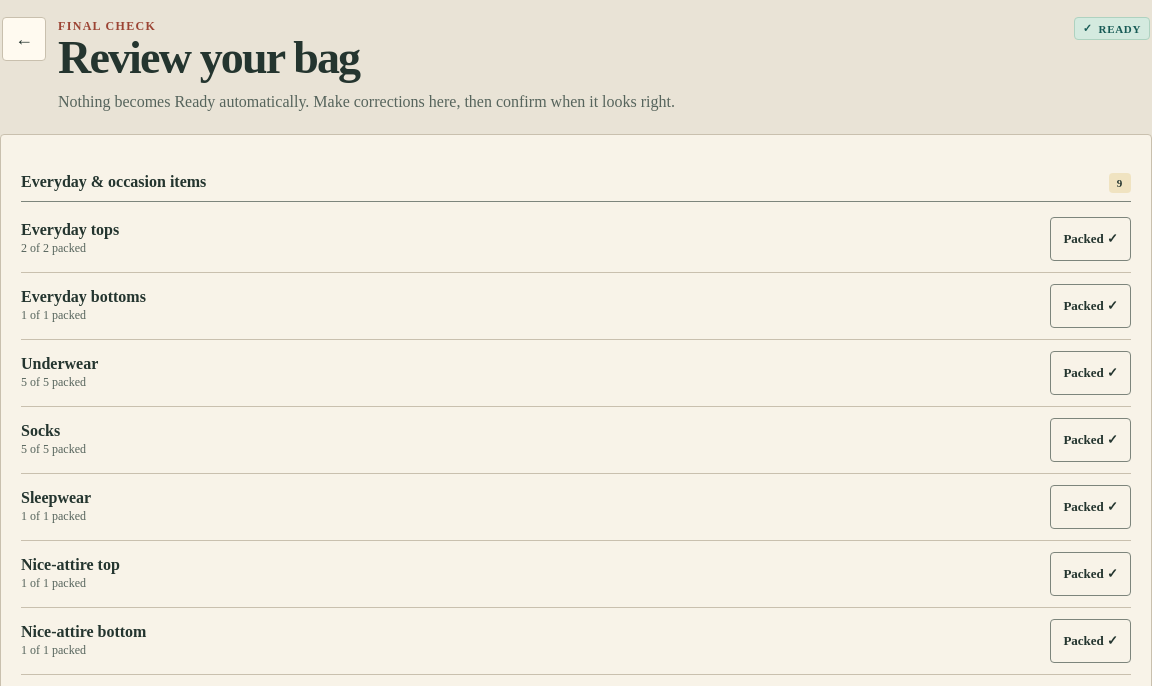
Test: corrections on the review › unchecking on a Ready trip takes it out of Ready with a visible reason, and focus stays on the row
The width and height of the screenshot is (1152, 686).
Expected: the heading "Review your bag" is shown, [58, 32, 359, 83]
Click the button named "Packed ✓ Everyday tops, mark unpacked".
click(1091, 239)  # box [1050, 217, 1131, 261]
(page scrolled)
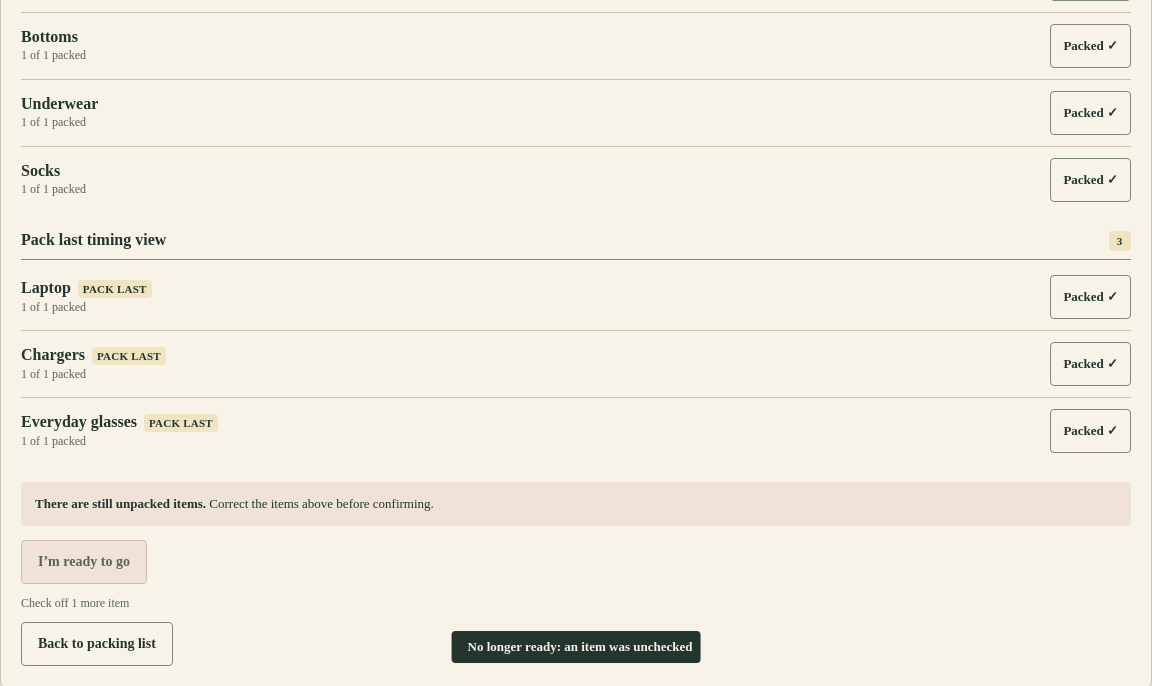
Now the text "No longer ready: an item was unchecked" is shown, box [468, 639, 692, 655]
Now the button "I’m ready to go" is shown, box [21, 540, 147, 584]
